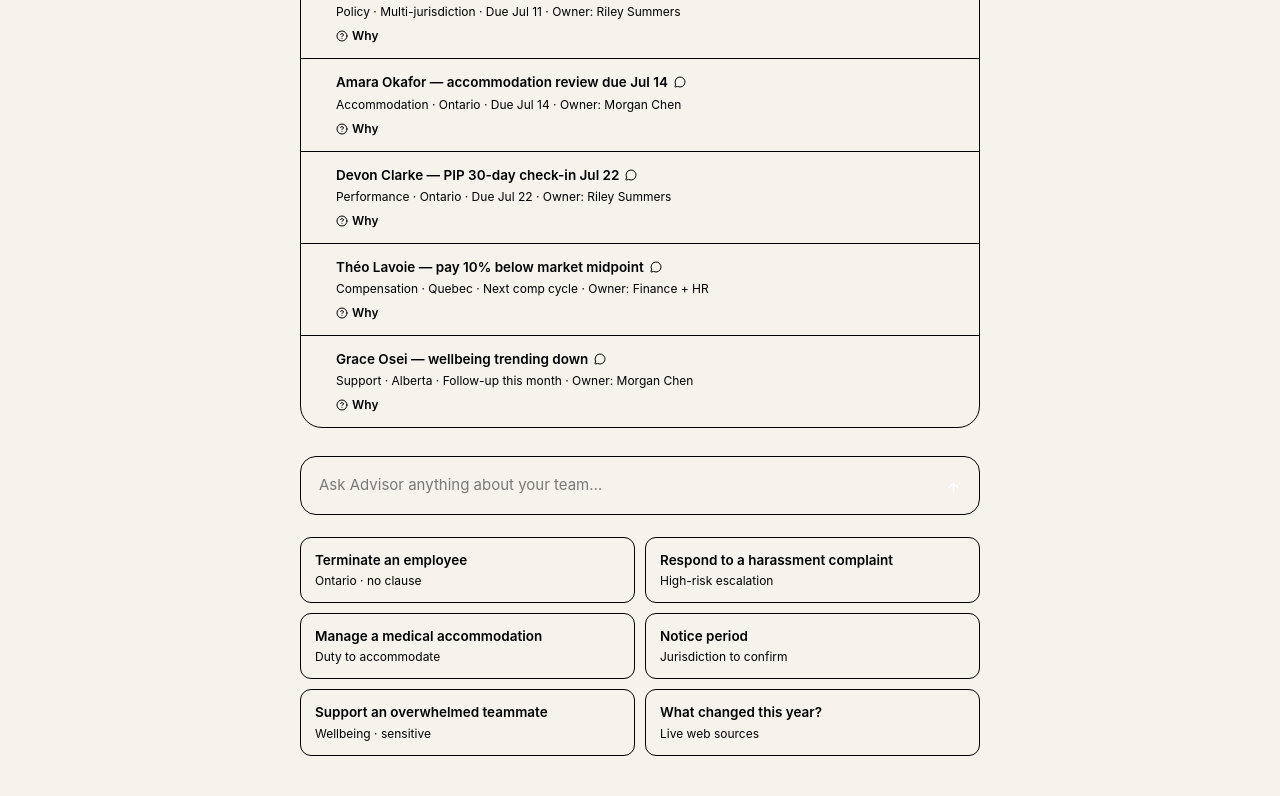
it: AdvisorView › with fake timers › routes home-composer text to a demo response mode and lists the thread under Today
This screenshot has width=1280, height=796.
(page scrolled)
In the text box with placeholder "Ask Advisor anything about your team…": (622, 486) [319, 465, 925, 506], type "What changed in Ontario employment law this year?"
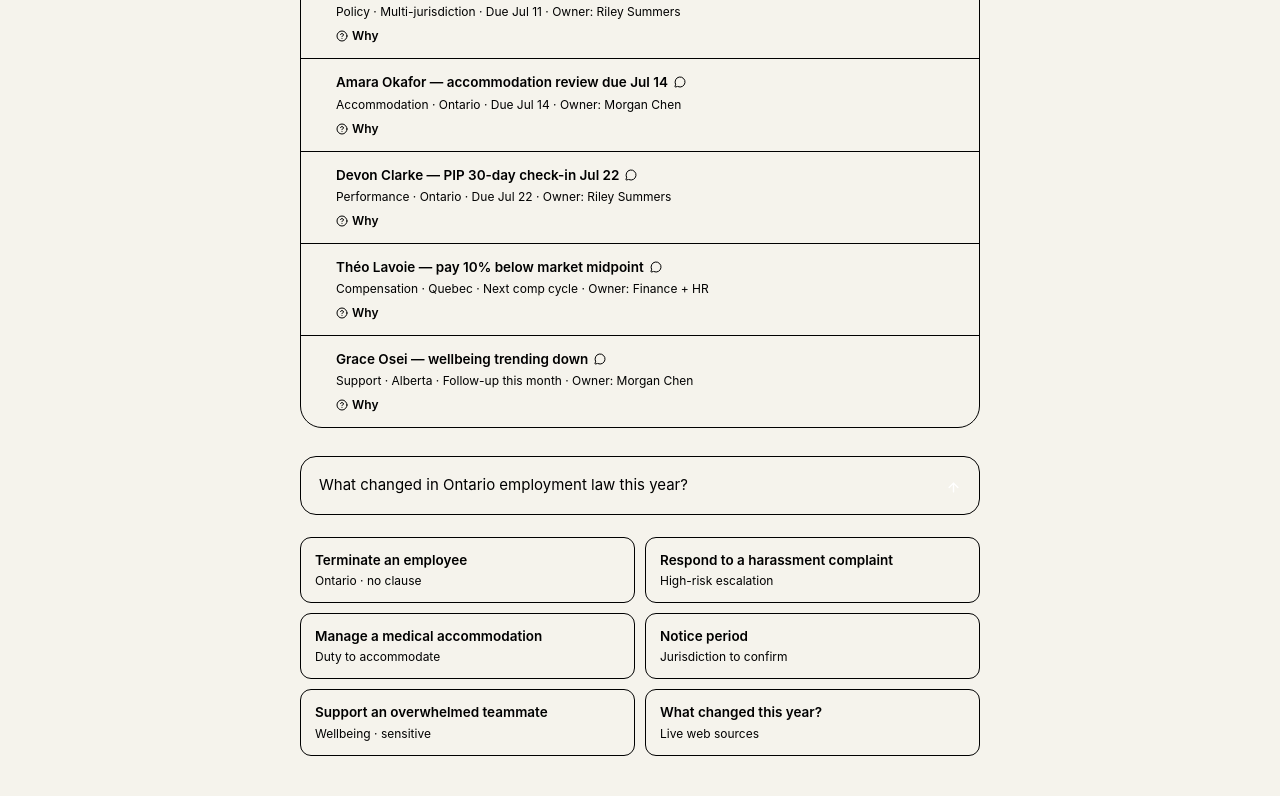
Press Enter in the text box with placeholder "Ask Advisor anything about your team…", box [319, 465, 925, 506]
Wait 8849 ms
(page scrolled)
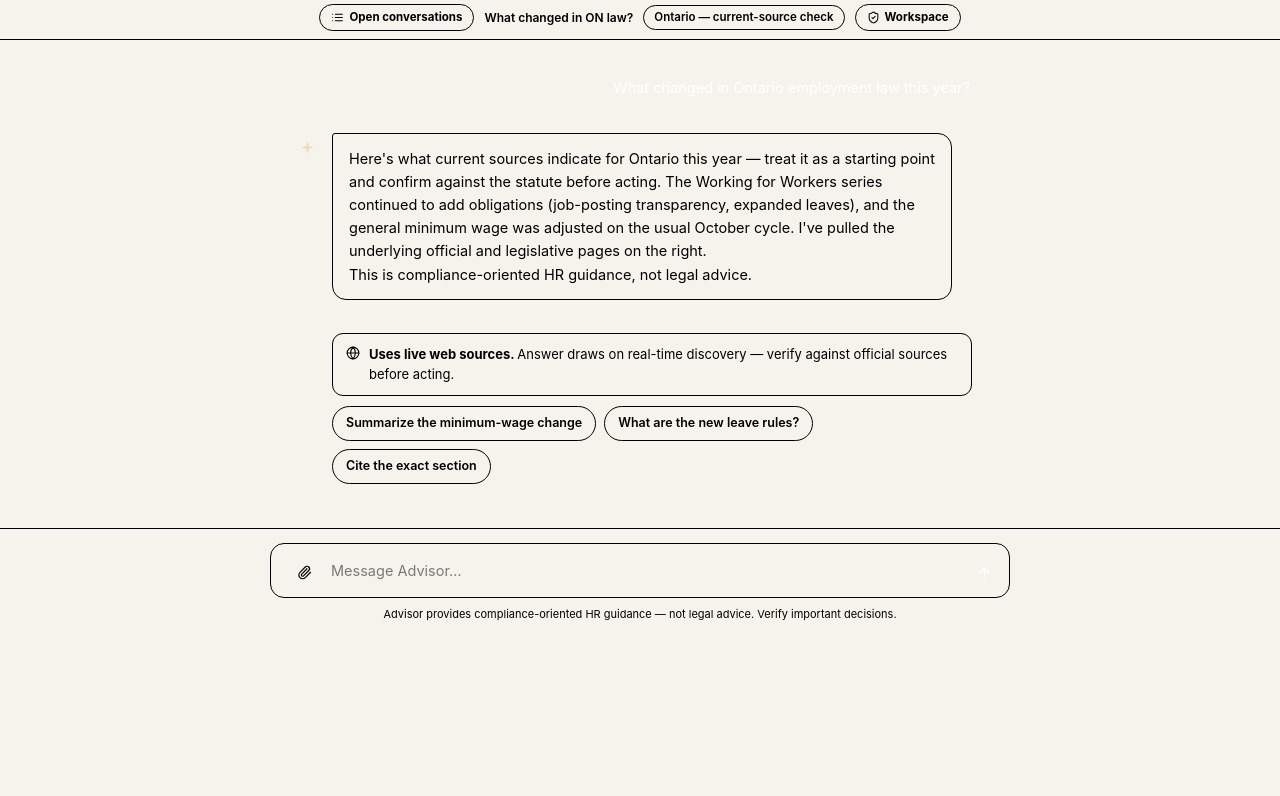
Result: the text "What changed in ON law?" is shown at [484, 9, 633, 27]
Result: the text "Ontario — current-source check" is shown at [643, 5, 844, 30]
Result: the text "Working for Workers series continued" is shown at [349, 150, 935, 260]
